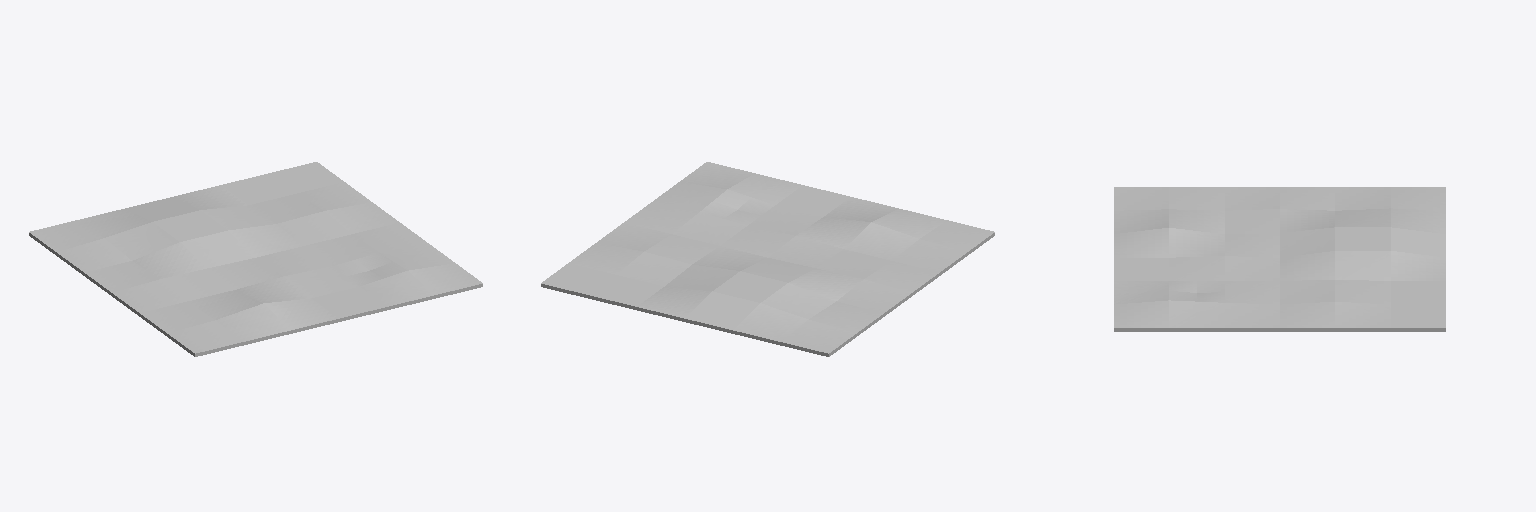
The model's file is SolNeige.obj.
3 renders of one model, left to right at view 1: azimuth 30°, elevation 25°; view 2: azimuth 150°, elevation 25°; view 3: azimuth 270°, elevation 25°, orthographic.
Visible parts, largest first — view 1: Cube_Cube.001; view 2: Cube_Cube.001; view 3: Cube_Cube.001.
Part boxes in pixels (x1,y1,x2,y2): Cube_Cube.001: (29,162,482,356); Cube_Cube.001: (541,162,994,356); Cube_Cube.001: (1114,187,1445,331).
Bounding box in the file's own units: 20 × 0.6904 × 20.